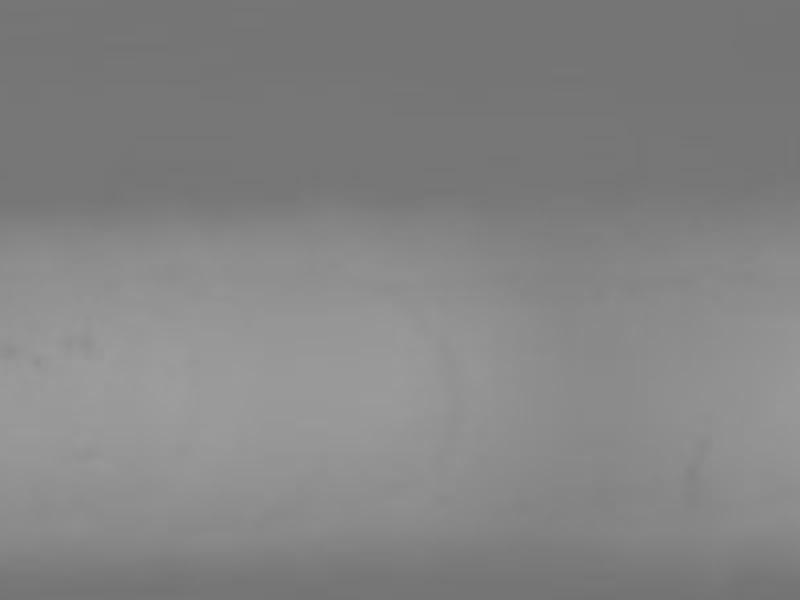defect: (78, 329, 97, 359), (31, 353, 54, 369), (56, 331, 73, 352), (1, 345, 15, 361)
